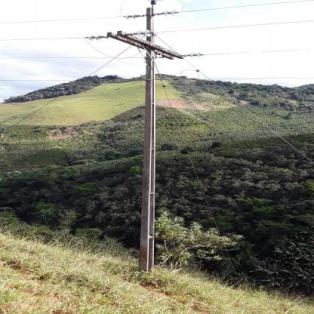Poste: (135, 7, 159, 269)
